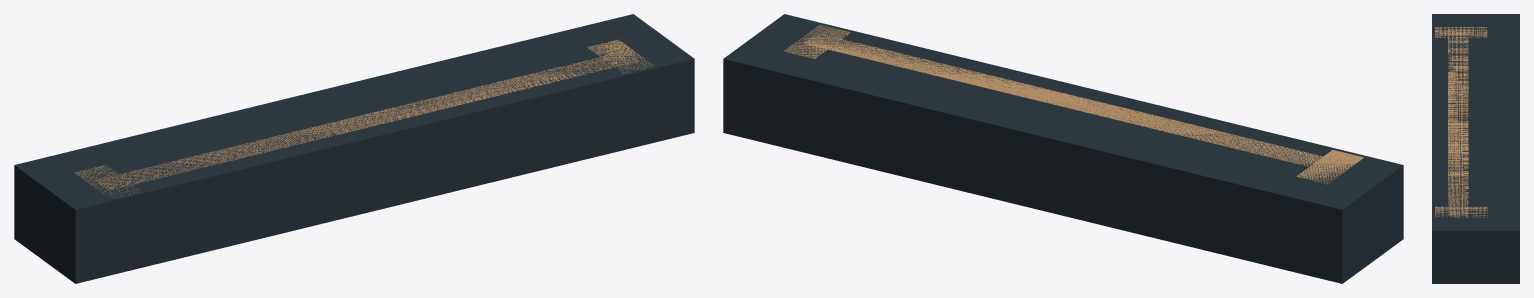
3 views of the same model, side by side, from view 1: azimuth 30°, elevation 25°; view 2: azimuth 150°, elevation 25°; view 3: azimuth 270°, elevation 25° (orthographic). The views are drawn at different scales.
Parts seen in each view (by area): view 1: strip-body, underdesk-rail, underdesk-bracket-right, underdesk-bracket-left; view 2: strip-body, underdesk-rail, underdesk-bracket-left, underdesk-bracket-right; view 3: strip-body, underdesk-rail, underdesk-bracket-left, underdesk-bracket-right.
Boxes of the visible parts, bbox=[...] form: strip-body: bbox=[14, 14, 694, 283]; underdesk-rail: bbox=[96, 51, 638, 189]; underdesk-bracket-right: bbox=[587, 39, 654, 73]; underdesk-bracket-left: bbox=[74, 165, 139, 198]; strip-body: bbox=[723, 14, 1403, 283]; underdesk-rail: bbox=[803, 33, 1345, 172]; underdesk-bracket-left: bbox=[1296, 150, 1363, 184]; underdesk-bracket-right: bbox=[783, 25, 850, 59]; strip-body: bbox=[1432, 14, 1519, 283]; underdesk-rail: bbox=[1448, 29, 1468, 215]; underdesk-bracket-left: bbox=[1435, 27, 1487, 37]; underdesk-bracket-right: bbox=[1435, 206, 1487, 217].
Size of the model in its own units: 0.35 by 0.04 by 0.06.
